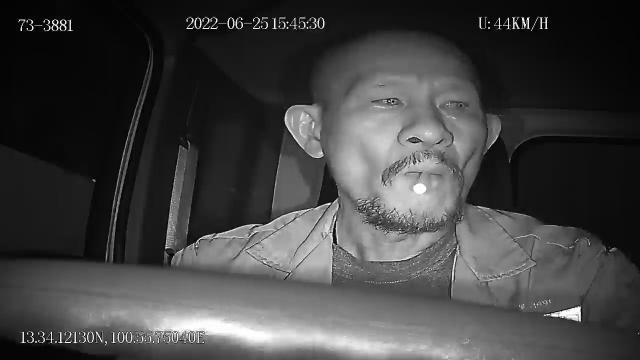SafeDriving: (359, 84, 414, 115), (429, 87, 478, 118)
Smoking: (415, 172, 431, 194)
